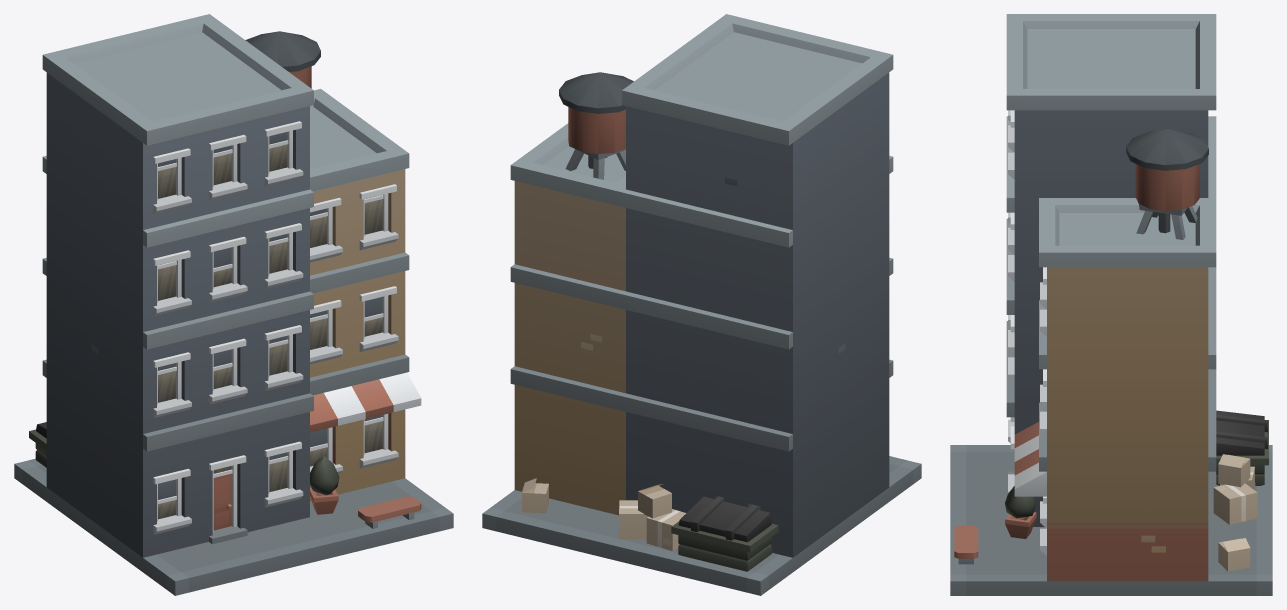
The model's file is nyc-brownstone-a-ba36b2c8.glb.
The picture shows the model from 3 angles, left to right: view 1: azimuth 30°, elevation 25°; view 2: azimuth 150°, elevation 25°; view 3: azimuth 270°, elevation 25°; orthographic projection.
Visible parts, largest first — view 1: building_H; view 2: building_H; view 3: building_H.
Boxes of the visible parts, x1=… form: building_H: x1=14, y1=14, x2=453, y2=595; building_H: x1=482, y1=14, x2=921, y2=595; building_H: x1=950, y1=14, x2=1272, y2=595.
Bounding box in the file's own units: 2.01 × 3.05 × 2.
Materials: 2 (2 with a texture image).
